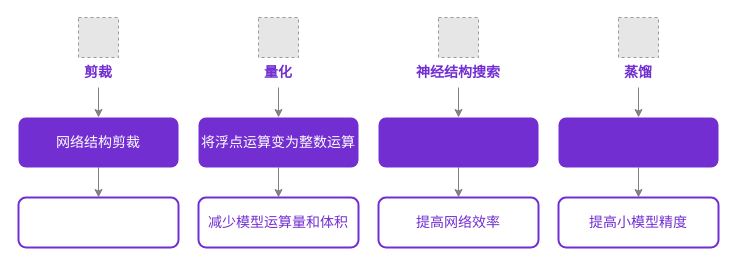
Image size: 736x266. Some labels were removed from this diagram. Grey dashed boxes stand in for pictures. Here are the shapes that lost their labels. From the top down, the centre of each, then its label:
At point (458, 142): "以模型大小和推理速度 为约束的神经结构搜索".
At point (638, 142): "将大模型的知识迁移 到小模型上".
At point (98, 222): "减少模型参数".
